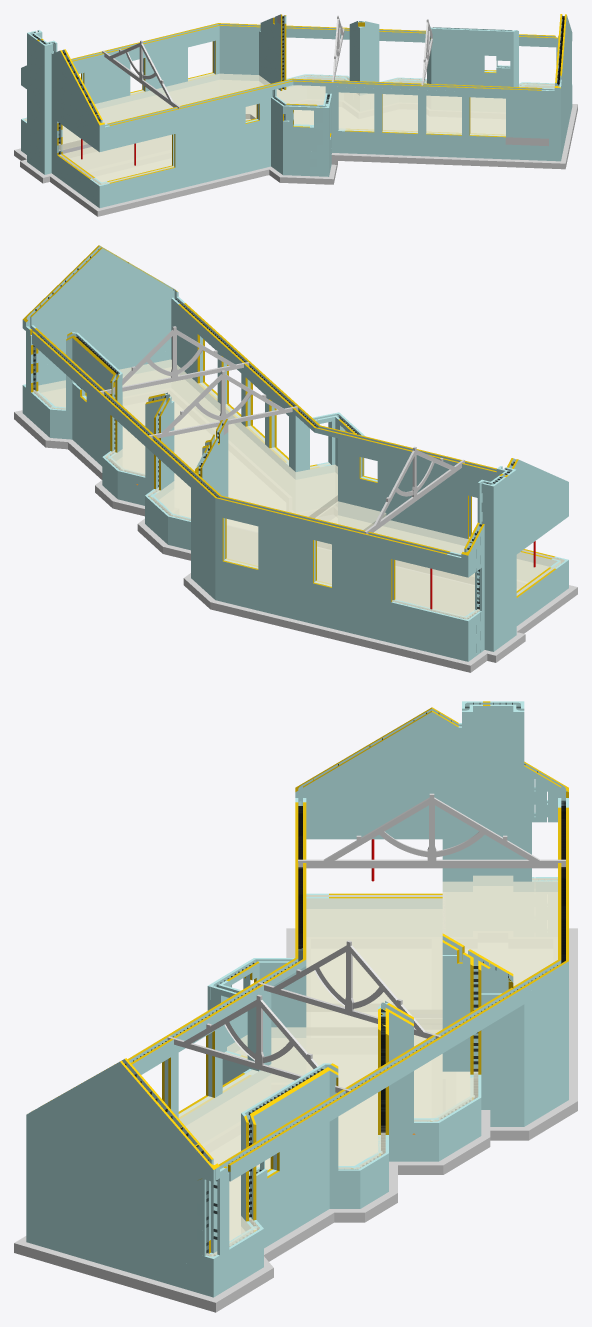
The model's file is ES26-023_Ethos_Property_Development.glb.
3 views of the same model, one above another, from view 1: azimuth 30°, elevation 25°; view 2: azimuth 150°, elevation 25°; view 3: azimuth 270°, elevation 25° (orthographic). The views are drawn at different scales.
Parts seen in each view (by area): view 1: Geom3D (×64), Geom3D_TLSID3865754, Geom3D_TLSID10808288, Geom3D_B_TLSID13947242; view 2: Geom3D, Geom3D_TLSID3865754, Geom3D_TLSID10881454 (×2), Geom3D_TLSID10808288; view 3: Geom3D (×31), Geom3D_TLSID3865754, Geom3D_TLSID10808288, Geom3D_TLSID10881454 (×2), 3DGeom-10557, 3DGeom-10559, Geom3D_TLSID10808341, Geom3D_TLSID10808378.
Part boxes in pixels (x1,y1,x2,y2): Geom3D (×64): [24, 28, 554, 203]; Geom3D_TLSID3865754: [14, 104, 577, 216]; Geom3D_TLSID10808288: [102, 50, 180, 108]; Geom3D_B_TLSID13947242: [505, 137, 548, 146]; Geom3D: [33, 359, 564, 619]; Geom3D_TLSID3865754: [14, 410, 577, 672]; Geom3D_TLSID10881454 (×2): [100, 362, 297, 438]; Geom3D_TLSID10808288: [364, 459, 464, 533]; Geom3D (×31): [62, 766, 557, 1292]; Geom3D_TLSID3865754: [14, 928, 577, 1312]; Geom3D_TLSID10808288: [298, 859, 565, 868]; Geom3D_TLSID10881454 (×2): [167, 982, 440, 1093]; 3DGeom-10557: [125, 738, 565, 1163]; 3DGeom-10559: [249, 812, 565, 1217]; Geom3D_TLSID10808341: [323, 798, 428, 860]; Geom3D_TLSID10808378: [435, 798, 540, 860].
Size of what is drawn, in the model's own units: 30.35 by 8.37 by 18.21.
